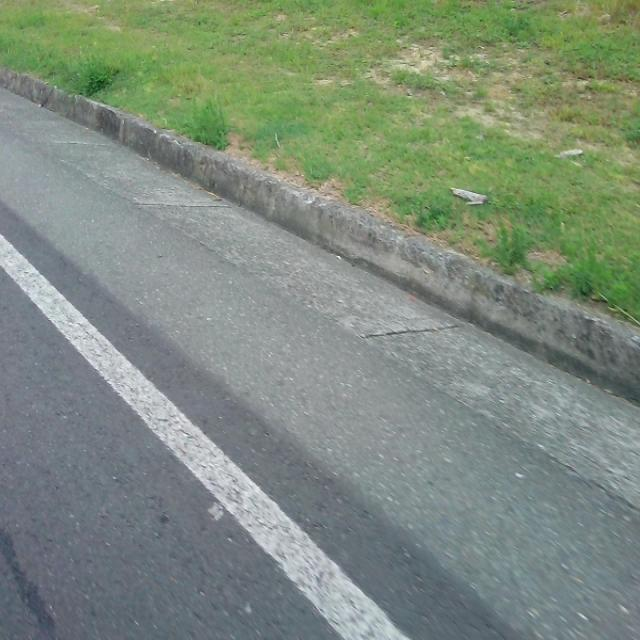DITCH: (1, 68, 638, 638), (2, 126, 638, 638)
